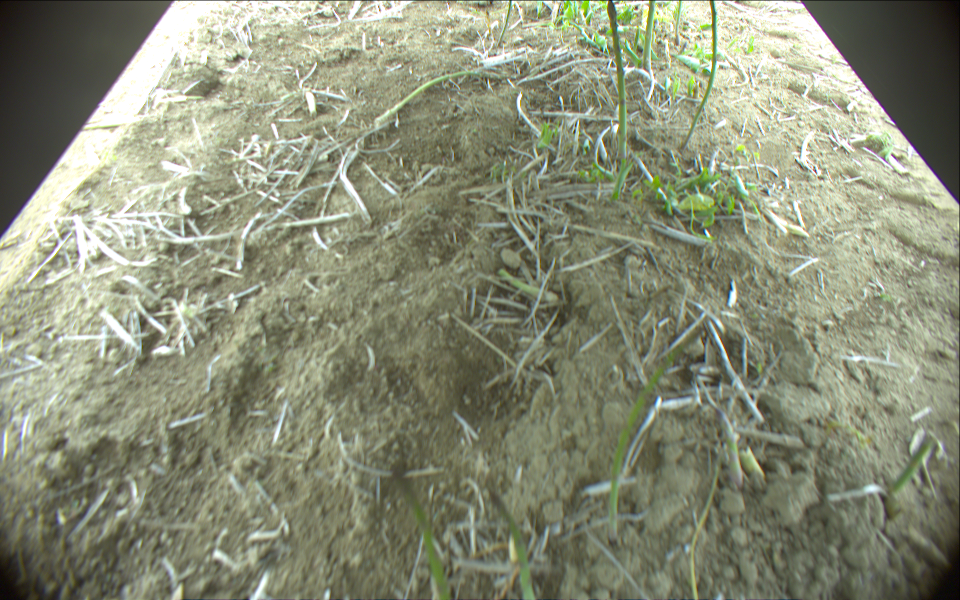aspa: (605, 318, 710, 540), (389, 462, 453, 600), (375, 68, 517, 126), (679, 1, 719, 151), (488, 489, 538, 600), (604, 1, 628, 201), (889, 435, 934, 501), (719, 409, 742, 490), (496, 1, 513, 48), (644, 1, 655, 69), (675, 1, 683, 45), (631, 26, 641, 55)
